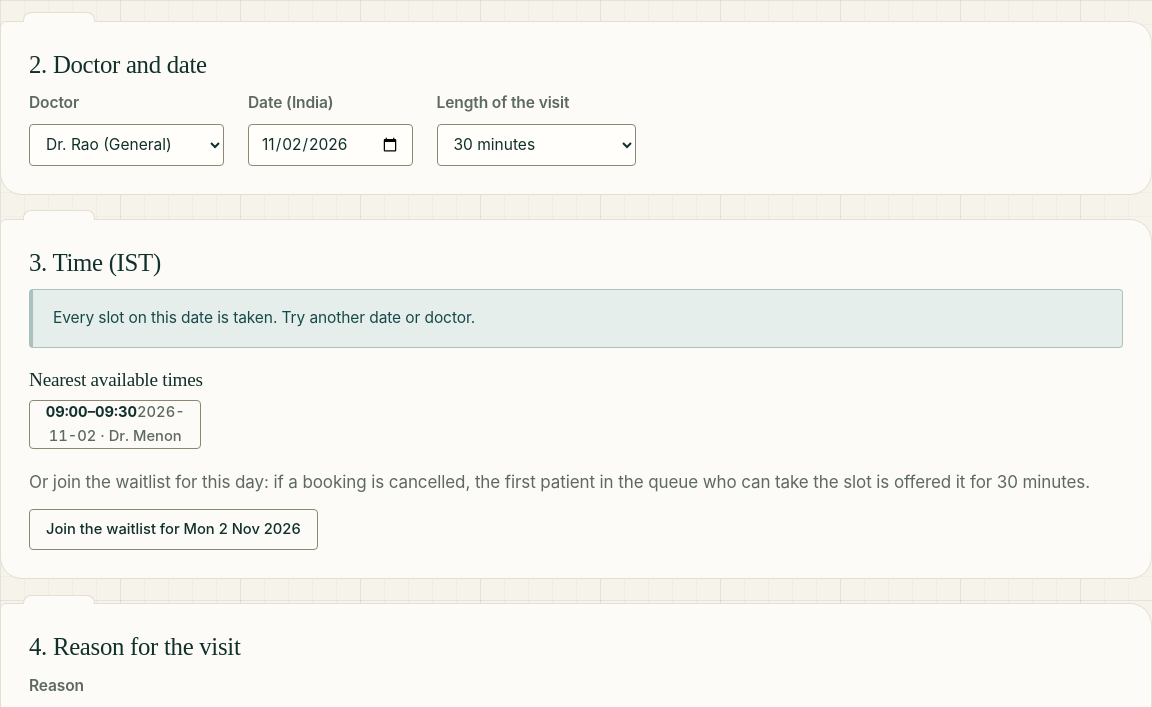
Scenario: when the chosen day has no time › offers the nearest times and fills in the doctor, day and time when one is chosen
(page scrolled)
Click the button named "Dr. Menon, ". click: coordinates (115, 425)
box: [29,400,201,449]
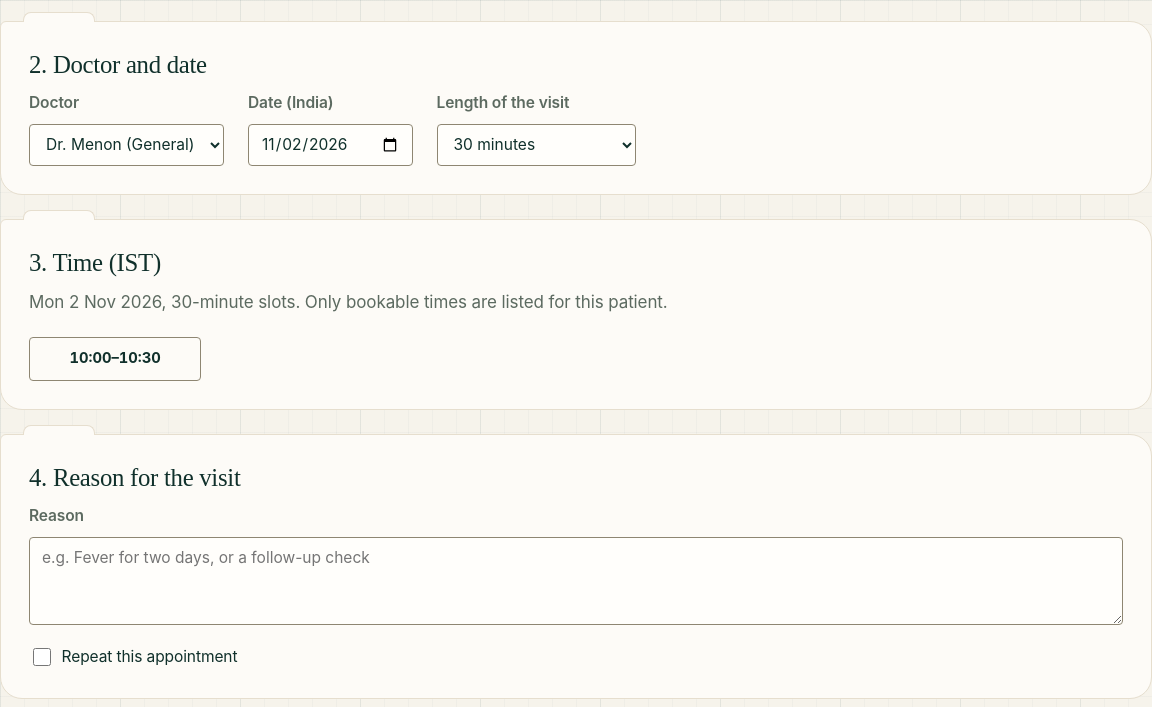
Now the button "10:00–10:30" is shown, box [29,337,201,381]
